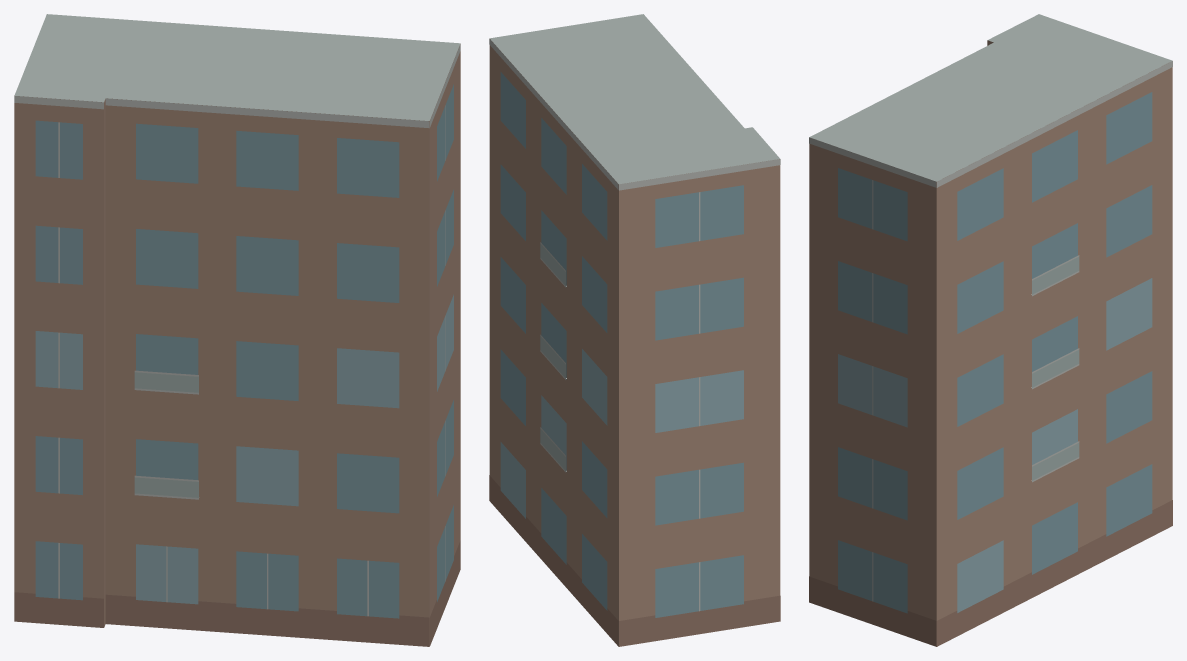
File: survey-upis-32776704.glb
3 views of the same model, side by side, from view 1: azimuth 30°, elevation 25°; view 2: azimuth 150°, elevation 25°; view 3: azimuth 270°, elevation 25° (orthographic). The views are drawn at different scales.
Visible parts, largest first — view 1: survey-upis-32776704.tmp; view 2: survey-upis-32776704.tmp; view 3: survey-upis-32776704.tmp.
Boxes of the visible parts, x1,y1,x2,y2 form: survey-upis-32776704.tmp: (14,14,460,646); survey-upis-32776704.tmp: (489,14,780,646); survey-upis-32776704.tmp: (809,14,1172,646).
Bounding box in the file's own units: 14.01 × 18.1 × 12.83.
